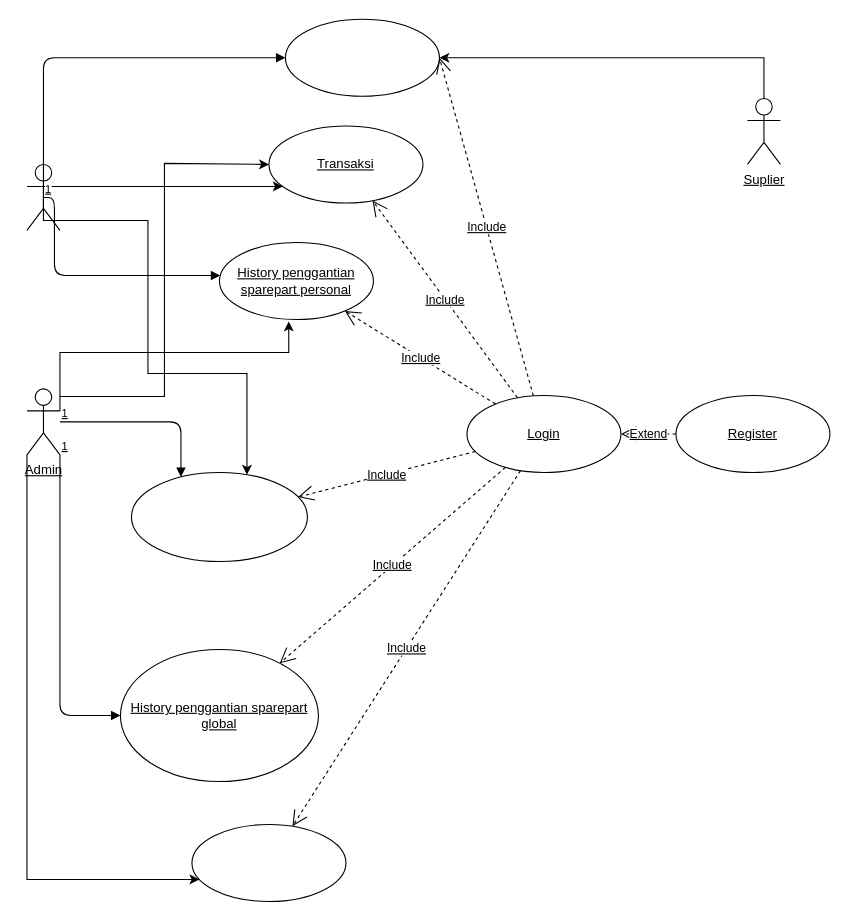
This 849x921 diagram has some shape labels left out. Here are the shapes that lost their labels. From the top down, the centre of each, then its label:
At [361,57]: "Laporan maintenance sparepart".
At [43,196]: "User".
At [218,516]: "Jumlah pengeluaran per site".
At [268,862]: "Kelola akun".
